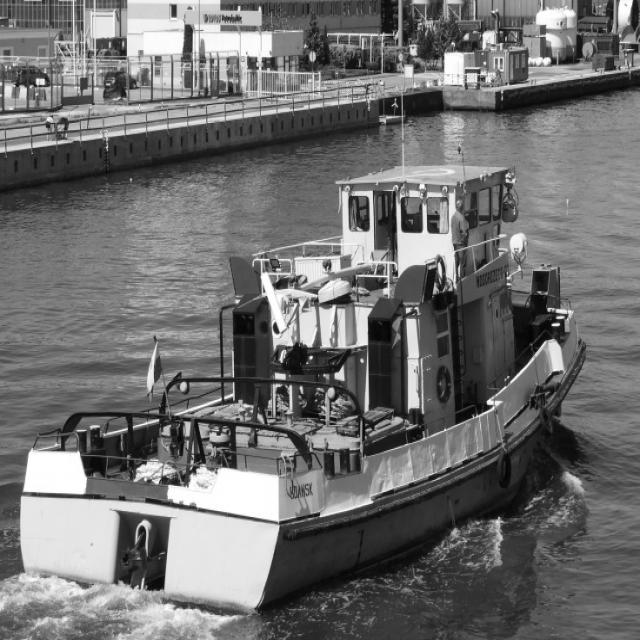tugboat: (25, 160, 590, 624)
